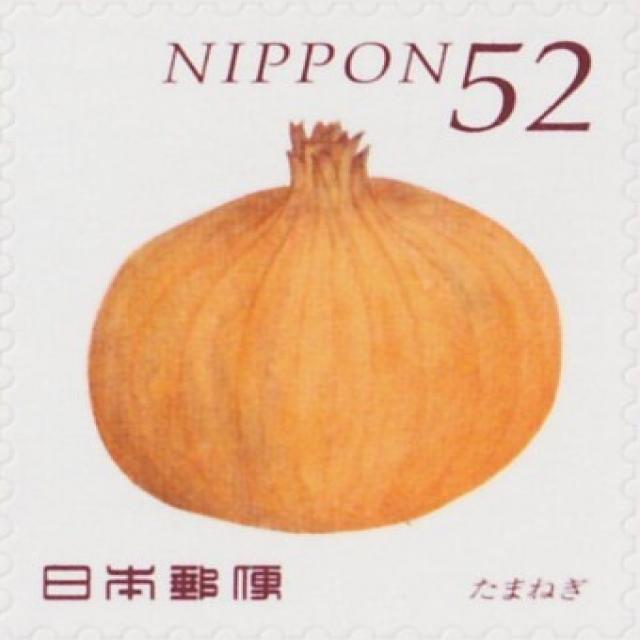onion: (73, 117, 570, 560)
